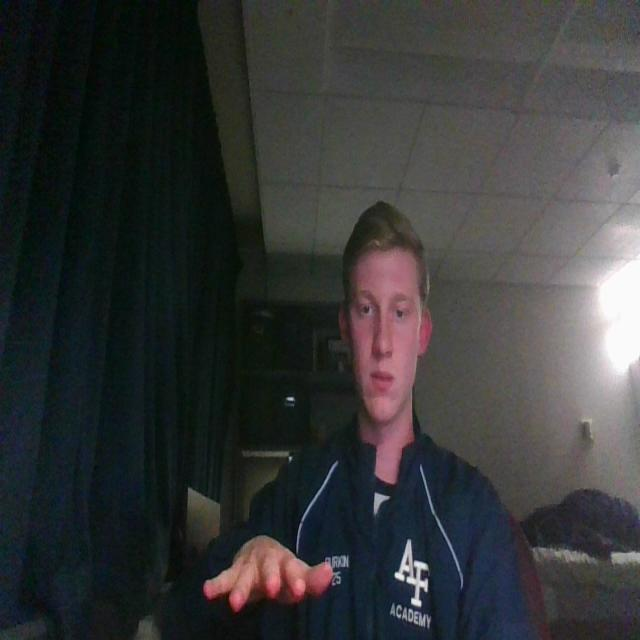paper: (203, 532, 337, 620)
